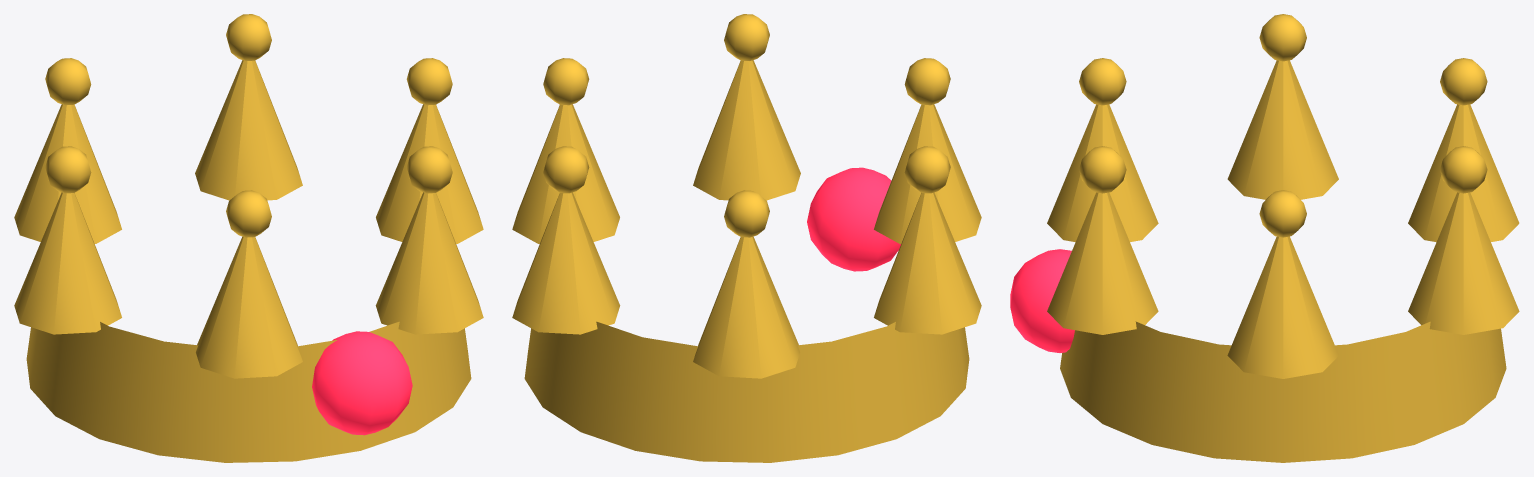
Rendered from accessory-crown.glb.
The picture shows the model from 3 angles, left to right: view 1: azimuth 30°, elevation 25°; view 2: azimuth 150°, elevation 25°; view 3: azimuth 270°, elevation 25°; orthographic projection.
Parts seen in each view (by area): view 1: accessory-crown; view 2: accessory-crown; view 3: accessory-crown.
Boxes of the visible parts, x1,y1,x2,y2 form: accessory-crown: (14,14,483,462); accessory-crown: (512,14,981,462); accessory-crown: (1010,14,1519,462).
Size of the model in its own units: 0.71 by 0.392 by 0.6841.
